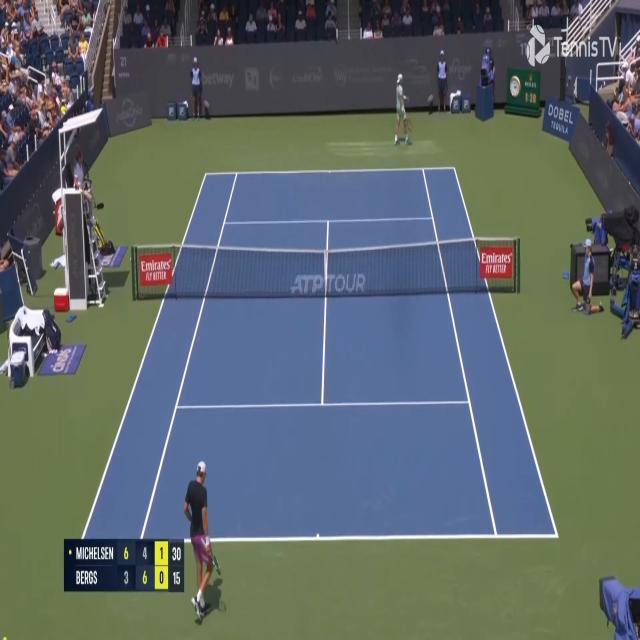tennis-player: (182, 459, 226, 627), (393, 72, 412, 148)
